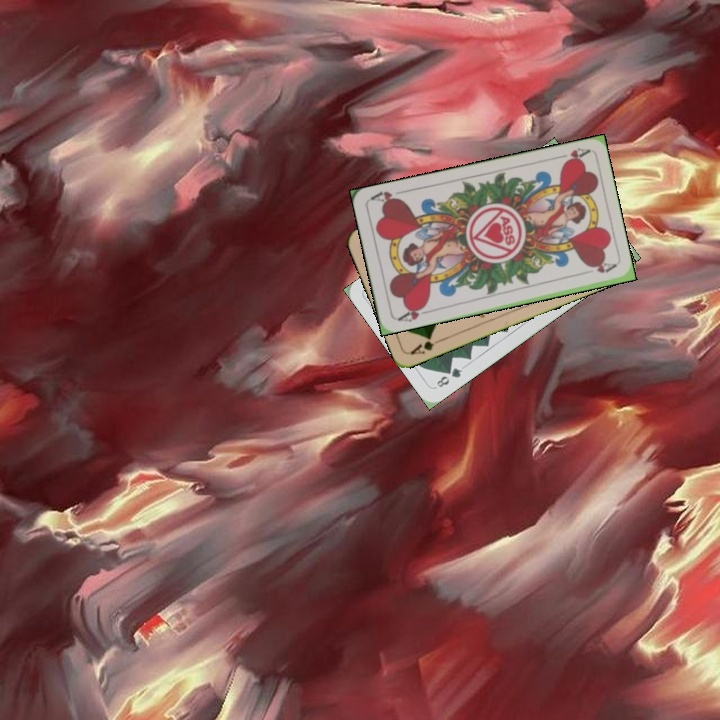G8: (432, 364, 465, 390)
GA: (407, 333, 445, 357)
HA: (551, 144, 591, 167), (394, 301, 433, 324)
